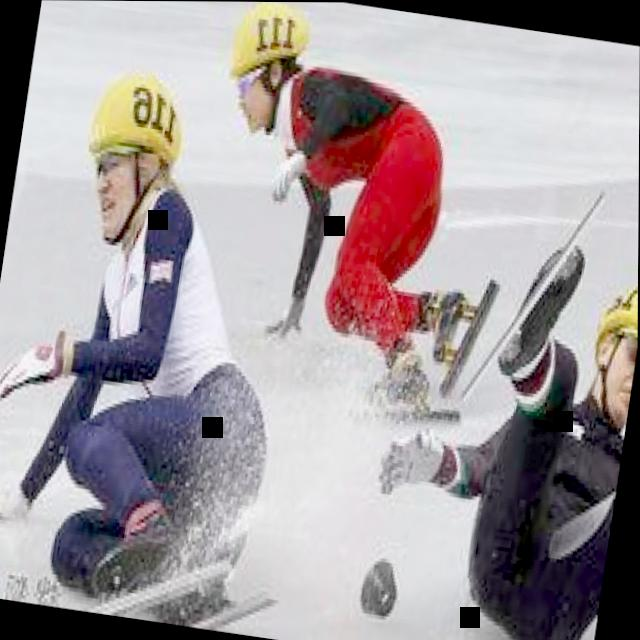Fall-Detected: (363, 207, 639, 640)
